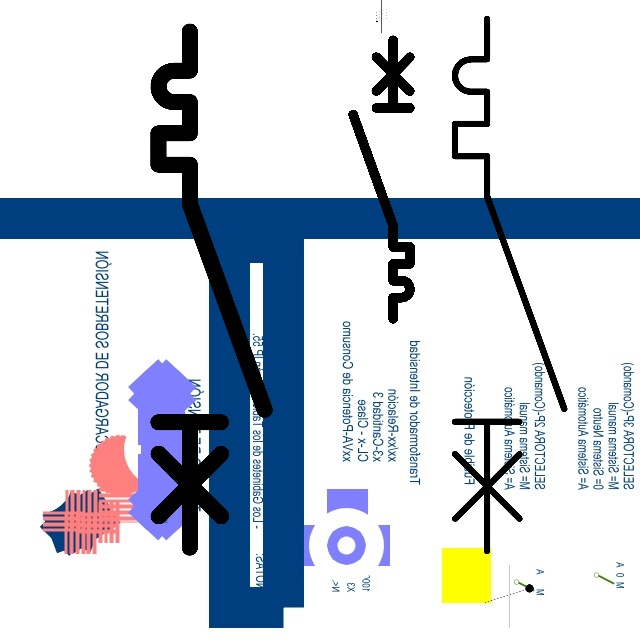interruptor_termomagnetico: (441, 5, 578, 564), (145, 18, 278, 561), (346, 33, 417, 326)
